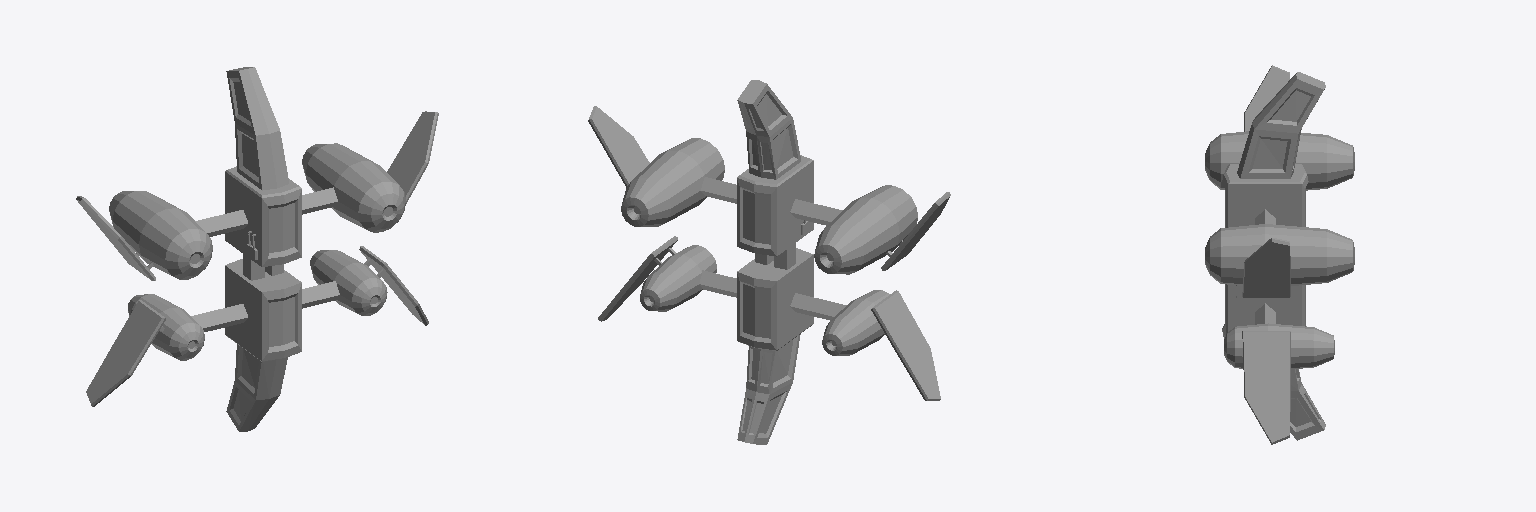
The model's file is SpaceShip3.obj.
3 renders of one model, left to right at view 1: azimuth 30°, elevation 25°; view 2: azimuth 150°, elevation 25°; view 3: azimuth 270°, elevation 25°, orthographic.
Visible parts, largest first — view 1: Cube; view 2: Cube; view 3: Cube.
Boxes of the visible parts, box(x1,y1,x2,y2) form: Cube: box(76, 67, 438, 431); Cube: box(588, 80, 950, 444); Cube: box(1205, 65, 1354, 444).
Size of the model in its own units: 17.53 by 16.99 by 6.34.